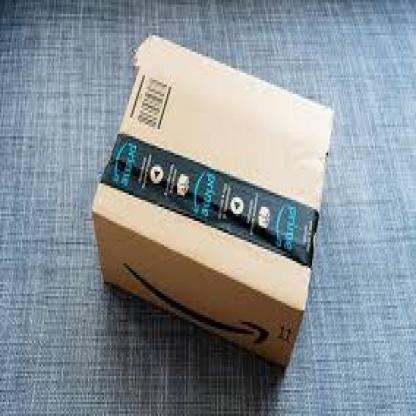package: (93, 34, 337, 378)
